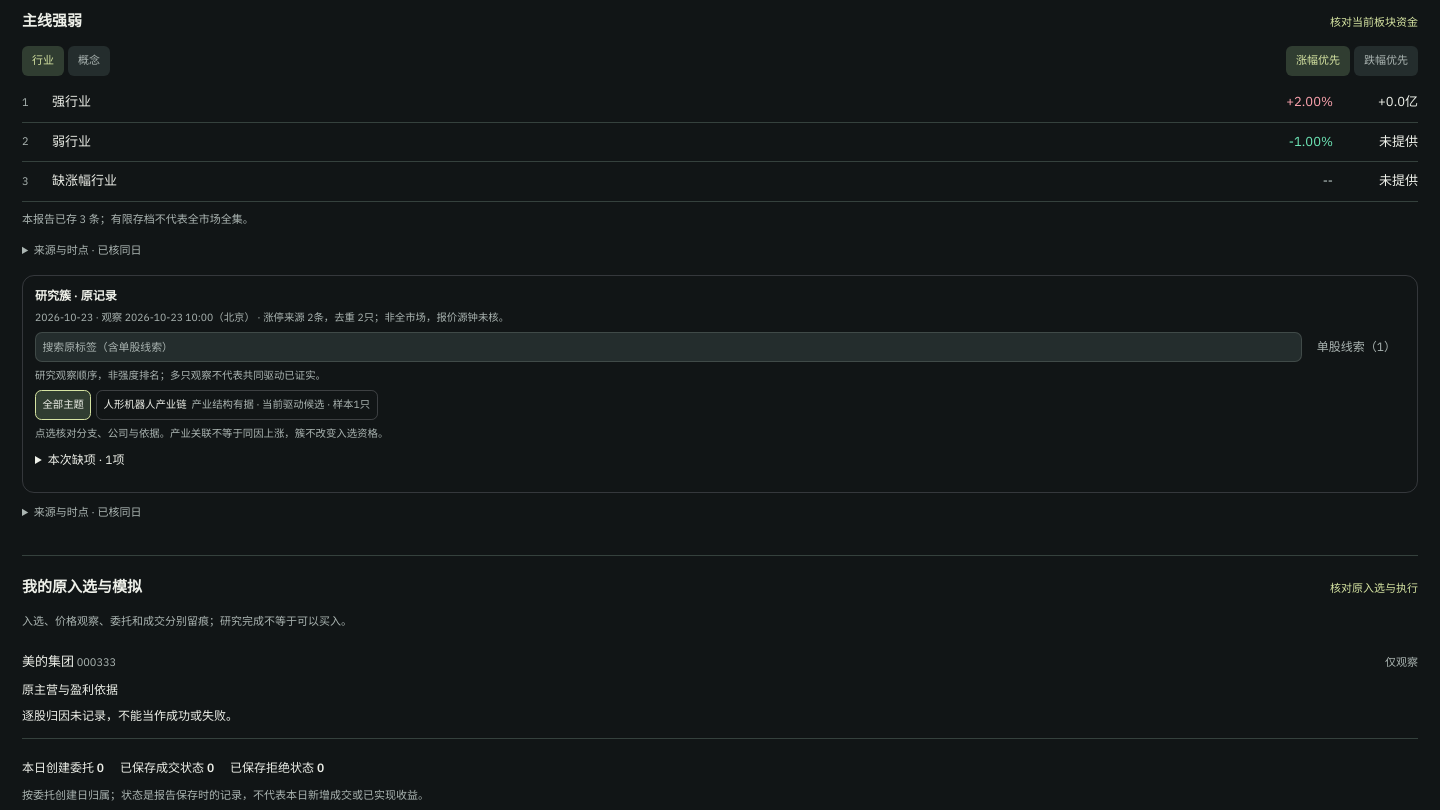
Test: market review dated evidence › reads the embedded original cluster version without mutating it or fetching a current replacement
The image size is (1440, 810).
Expected: the heading "研究簇 · 原记录" is shown, [35,287,117,305]
What coordinates should you click on to do the following:
click the button "人形机器人产业链"
I would click on:
 (237, 405)
Its box is [96,390,378,420].
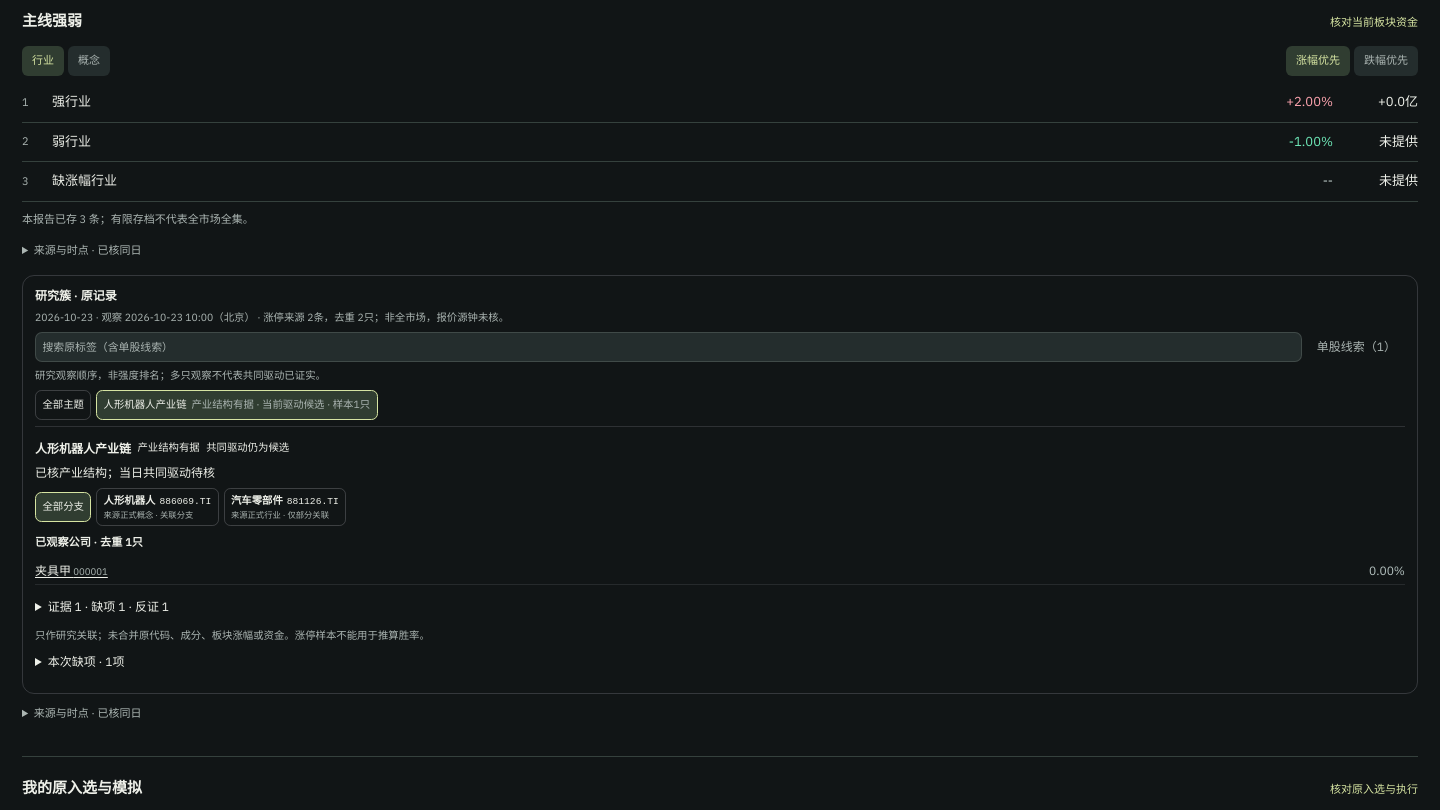
Now the text "共同驱动仍为候选" is shown, box [206,440,289,458]
